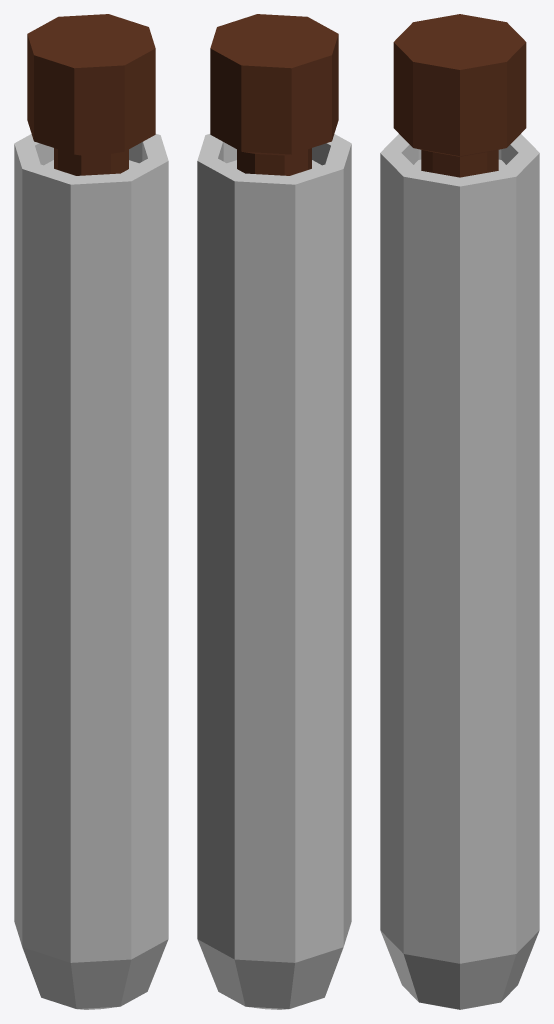
The model's file is potion4-a142e8a7ef.glb.
The picture shows the model from 3 angles, left to right: view 1: azimuth 30°, elevation 25°; view 2: azimuth 150°, elevation 25°; view 3: azimuth 270°, elevation 25°; orthographic projection.
Visible parts, largest first — view 1: Potion4.obj; view 2: Potion4.obj; view 3: Potion4.obj.
Boxes of the visible parts, x1,y1,x2,y2 form: Potion4.obj: (14, 14, 168, 1009); Potion4.obj: (197, 14, 351, 1009); Potion4.obj: (380, 14, 539, 1009).
Size of the model in its own units: 0.1439 by 0.9538 by 0.1439.
